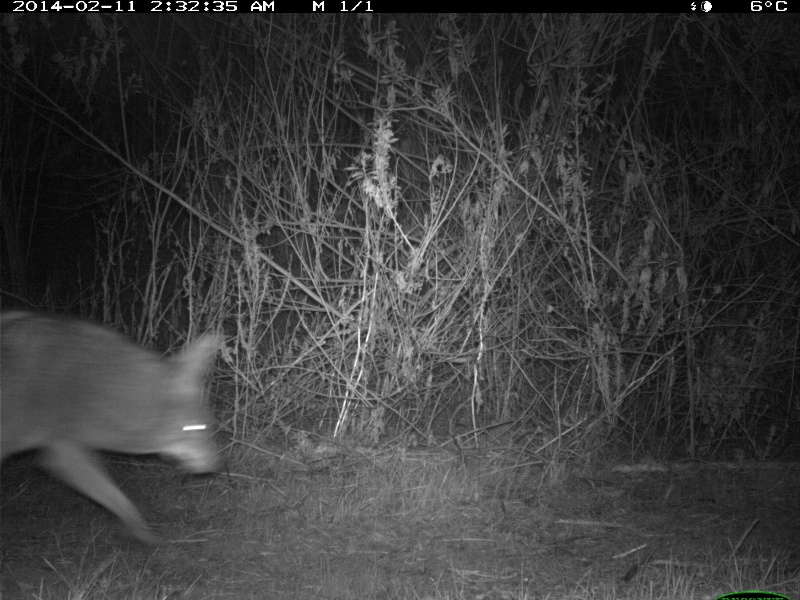coyote: (1, 303, 228, 554)
